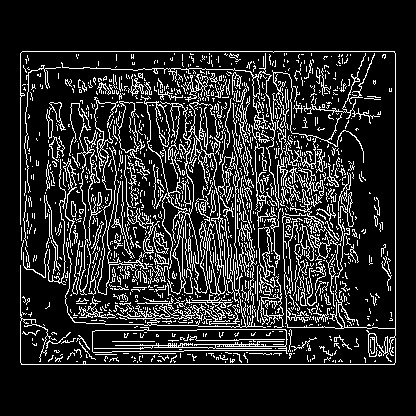buddha-sitting: (108, 102, 172, 297)
